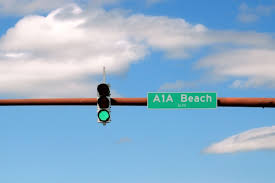traffic light: (88, 75, 120, 131)
